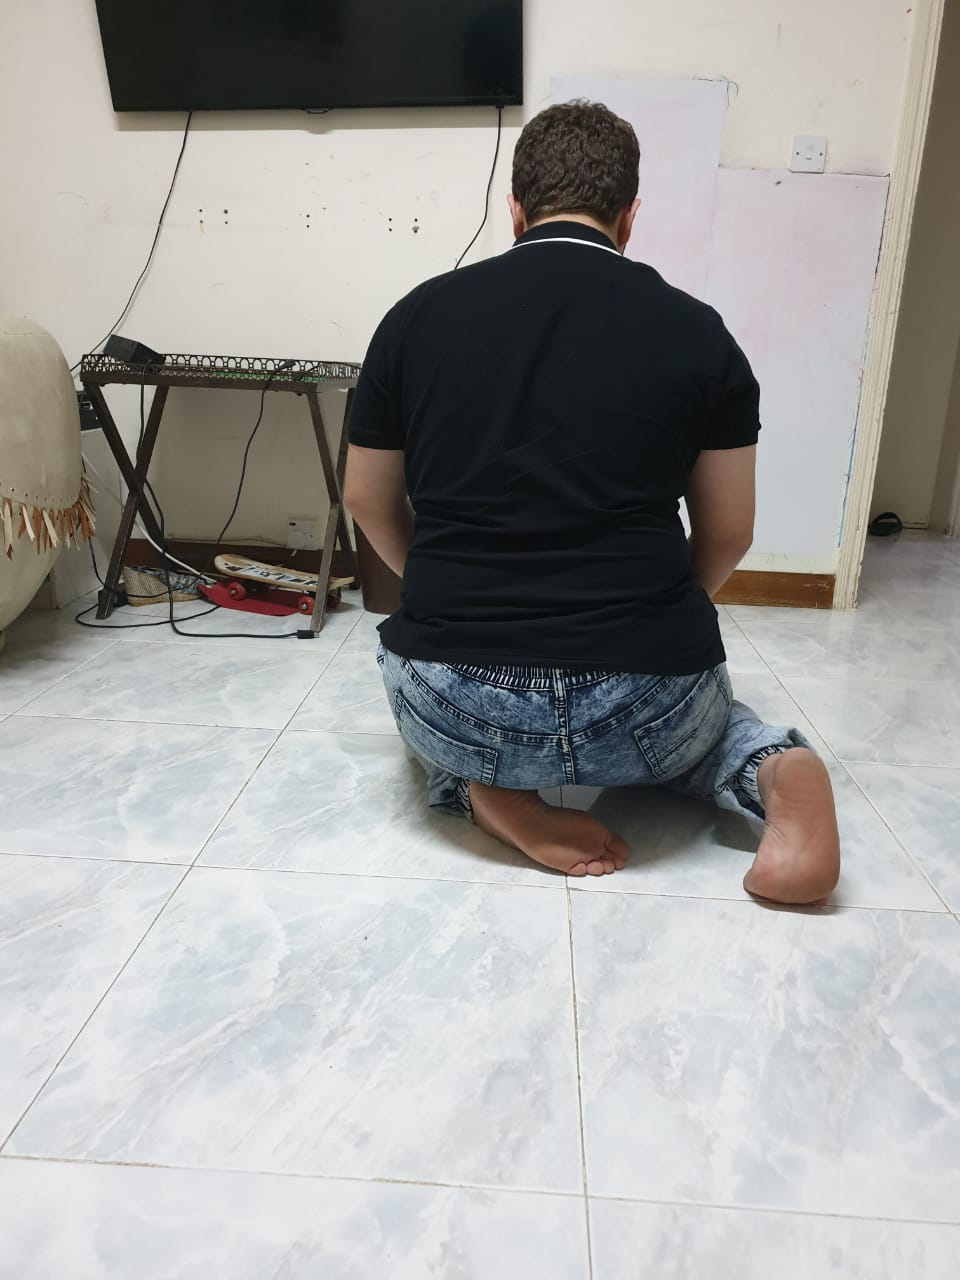sitting: (315, 97, 853, 940)
